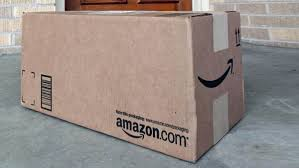undamaged: (20, 9, 247, 165)
